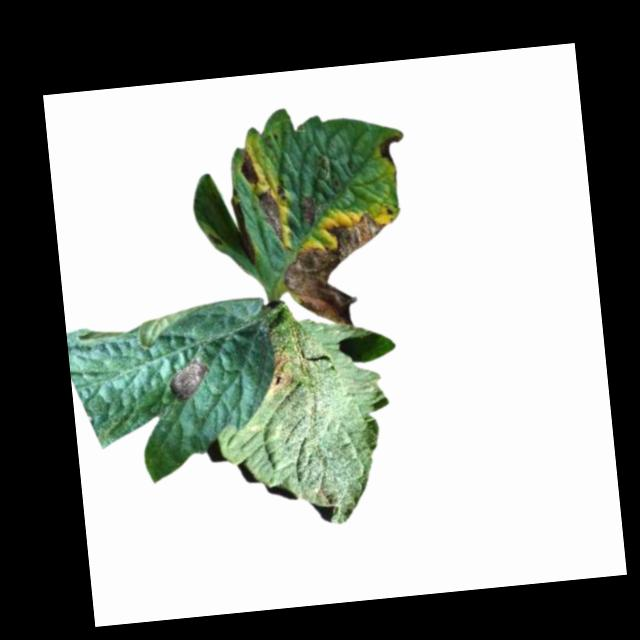Early_blight: (283, 208, 394, 332), (164, 357, 208, 403), (255, 185, 285, 244), (265, 347, 294, 390), (374, 131, 405, 168), (237, 148, 260, 189), (293, 193, 319, 226)
